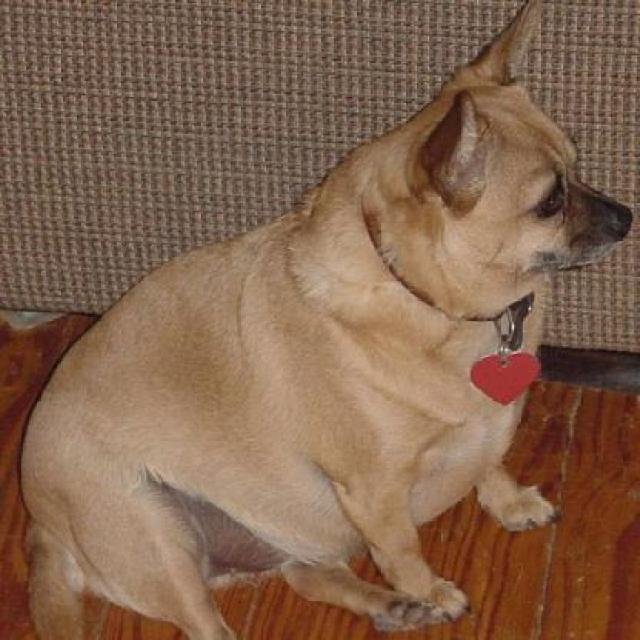Dog: (21, 0, 638, 638)
